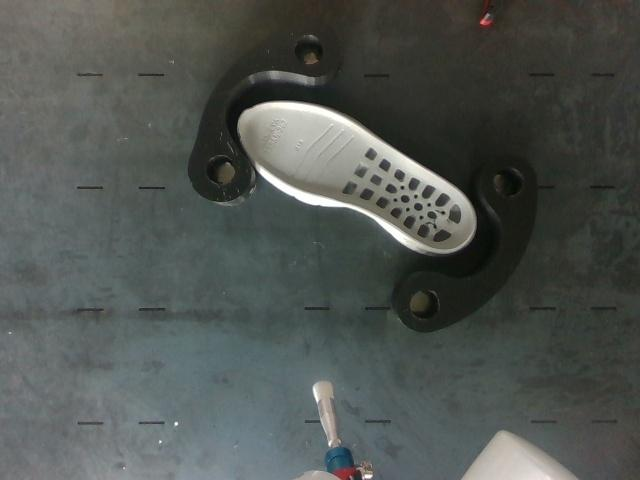shoes: (239, 103, 474, 250)
